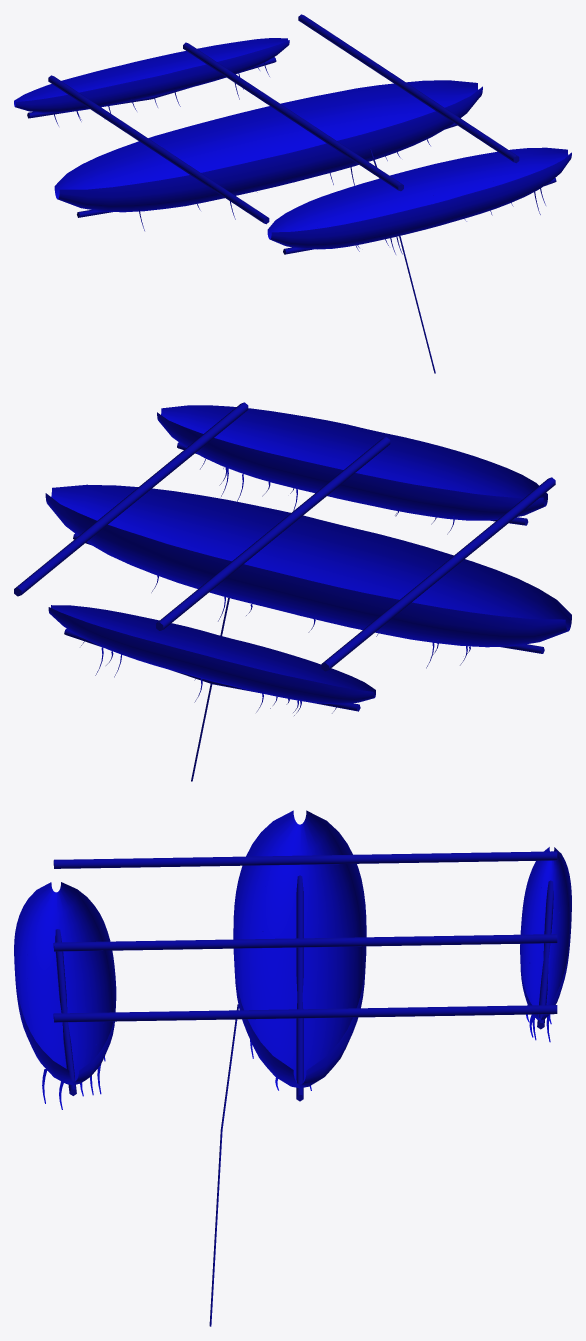
File: hull_keels.glb
3 renders of one model, top to bottom at view 1: azimuth 30°, elevation 25°; view 2: azimuth 150°, elevation 25°; view 3: azimuth 270°, elevation 25°, orthographic. The views are drawn at different scales.
Parts seen in each view (by area): view 1: hull_keels; view 2: hull_keels; view 3: hull_keels.
Boxes of the visible parts, bbox=[...] form: hull_keels: bbox=[14, 14, 571, 373]; hull_keels: bbox=[14, 402, 571, 781]; hull_keels: bbox=[14, 810, 571, 1326].
Size of what is drawn, in the model's own units: 11 by 6.41 by 9.98.
